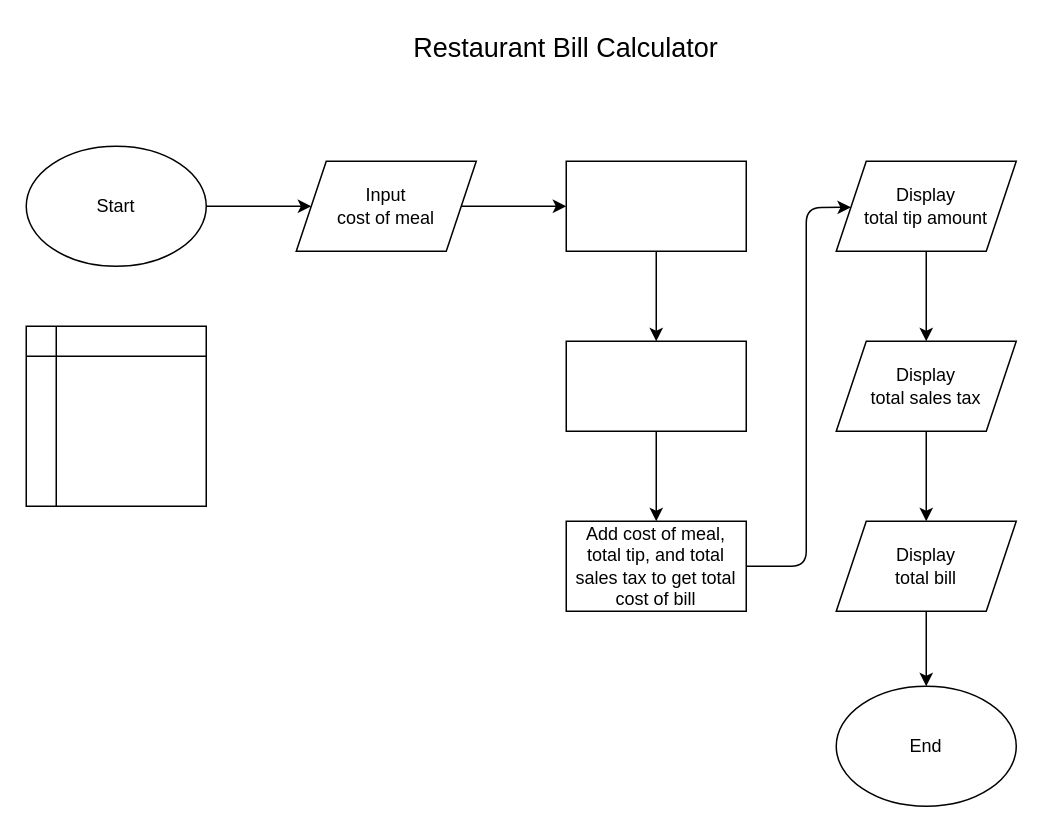
Some shapes in this 1043 by 833 pixel diagram are drawn without their labels. Each missing label, with the centre of its shape:
Multiply cost of meal by sales tax rate to get cost of sales tax: the point at 655,385
Multiply cost of meal by tip rate to get total tip amount: the point at 655,205
Tip rate = 18% Sales tax = 7%: the point at 115,415
